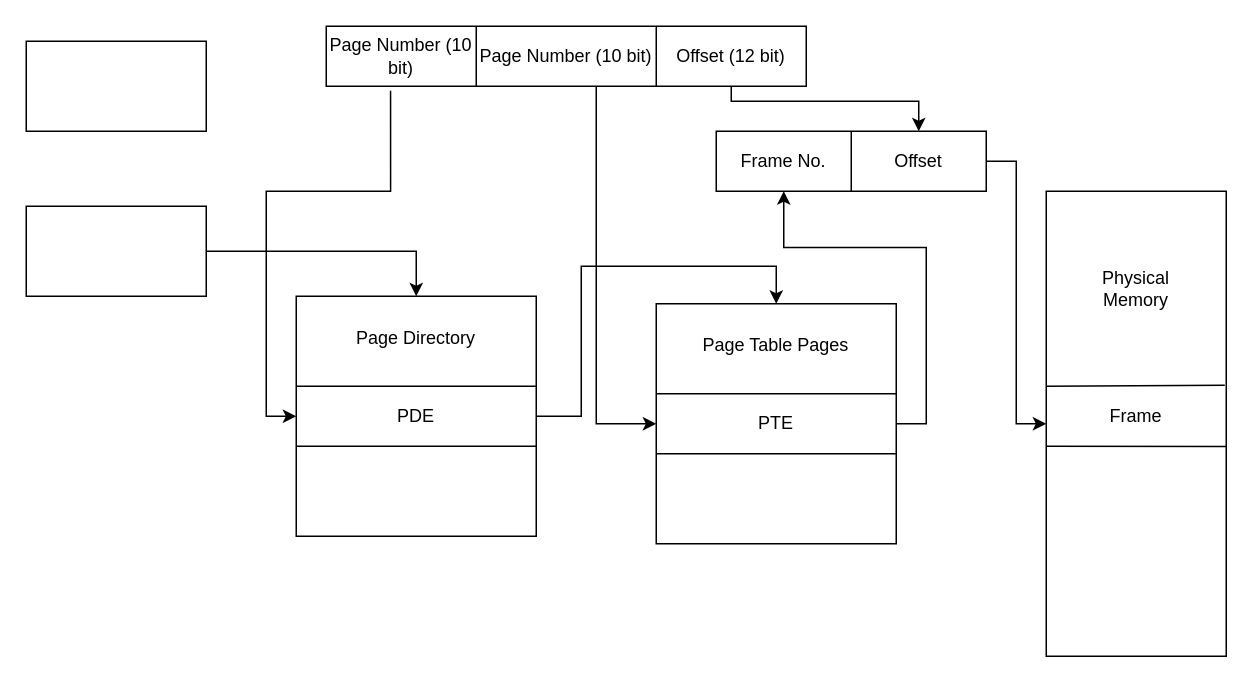
Image size: 1254x683. Some labels were removed from this diagram. Each missing label, with the centre of its shape:
CPU: the point at 115,85
PTBR: the point at 115,250
